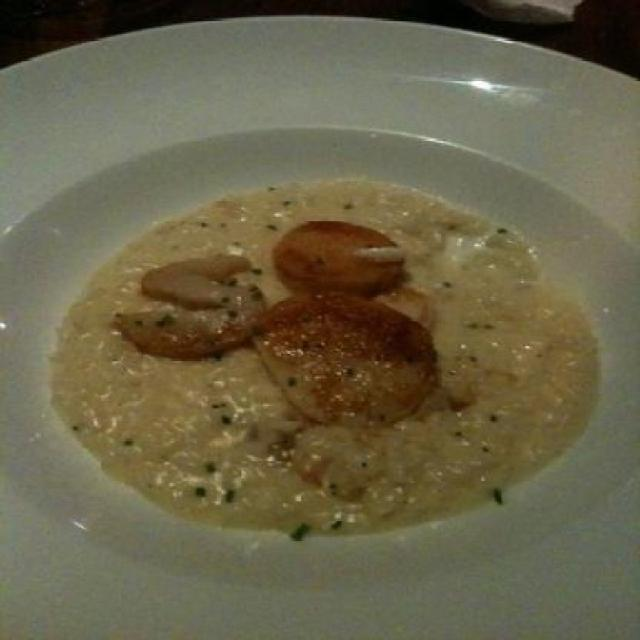Risotto: (59, 210, 608, 528)
